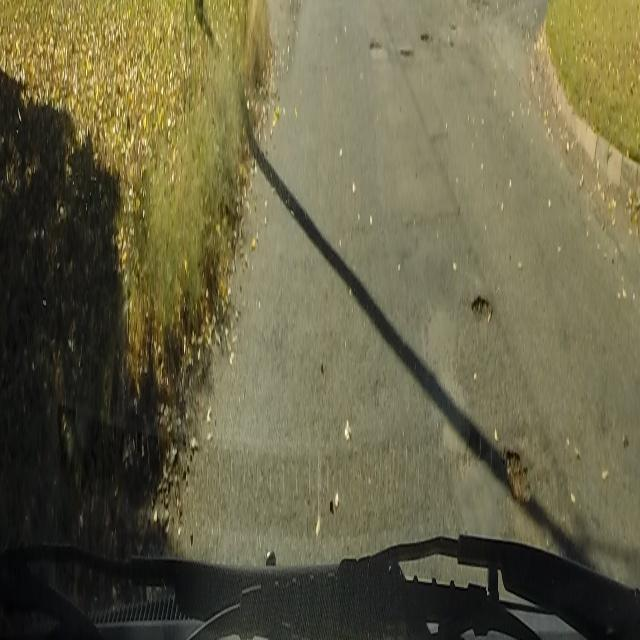pothole: (369, 21, 459, 62), (502, 438, 532, 510), (469, 290, 493, 322)
